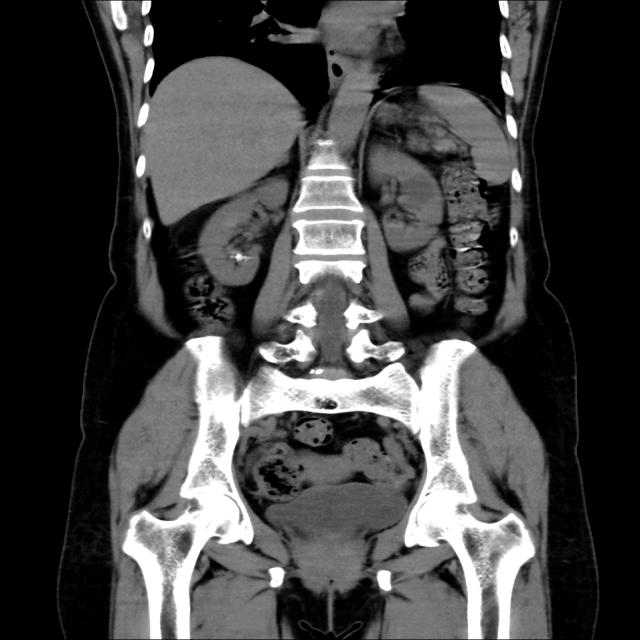kidneystone: (230, 252, 245, 261)
